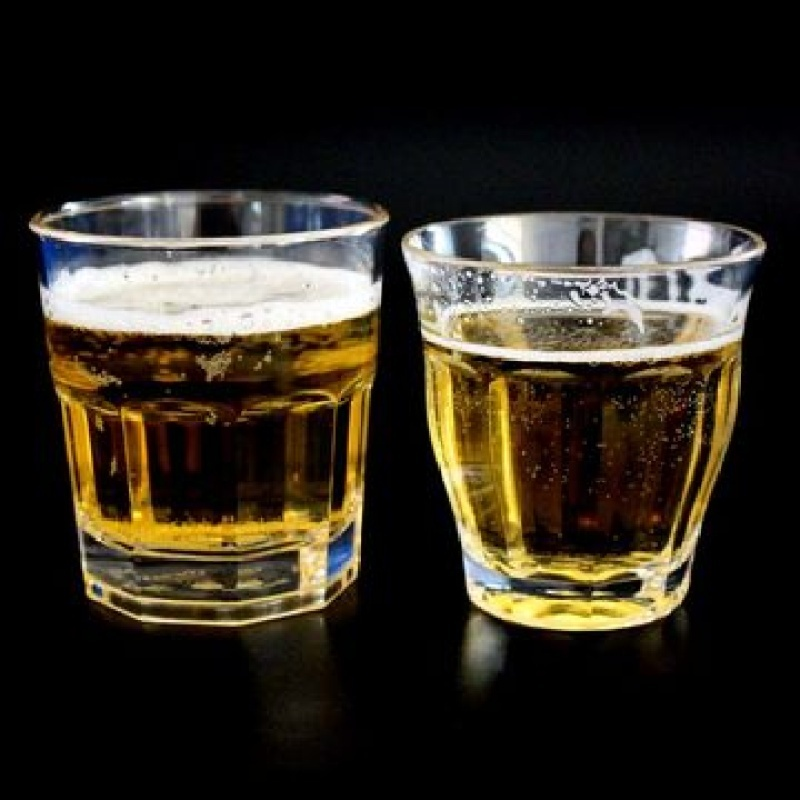whiskey: (26, 180, 375, 605), (409, 200, 747, 624)
